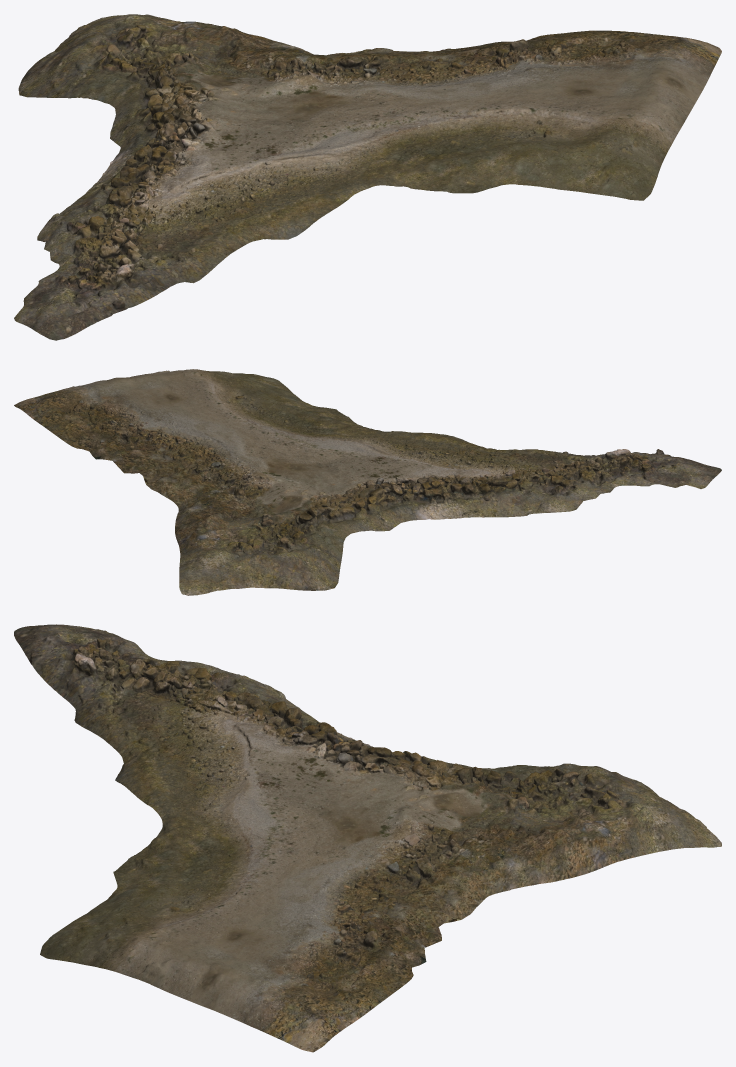
The model's file is coast_rocks_01_LOD1.glb.
3 views of the same model, one above another, from view 1: azimuth 30°, elevation 25°; view 2: azimuth 150°, elevation 25°; view 3: azimuth 270°, elevation 25° (orthographic). The views are drawn at different scales.
Visible parts, largest first — view 1: coast_rocks_01_LOD1; view 2: coast_rocks_01_LOD1; view 3: coast_rocks_01_LOD1.
Boxes of the visible parts, <box> form: coast_rocks_01_LOD1: <box>14,14,721,340</box>; coast_rocks_01_LOD1: <box>14,369,721,595</box>; coast_rocks_01_LOD1: <box>14,624,721,1052</box>.
Bounding box in the file's own units: 59.51 × 3.29 × 42.52.
Materials: 1 (1 with a texture image).
